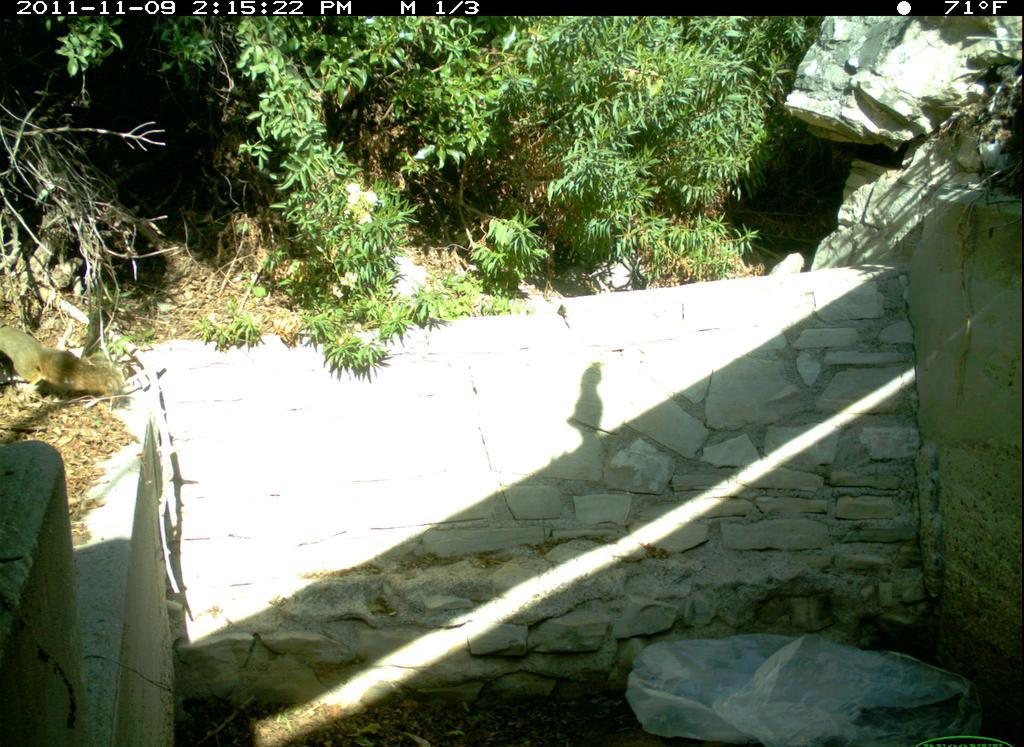squirrel: (4, 313, 158, 419)
